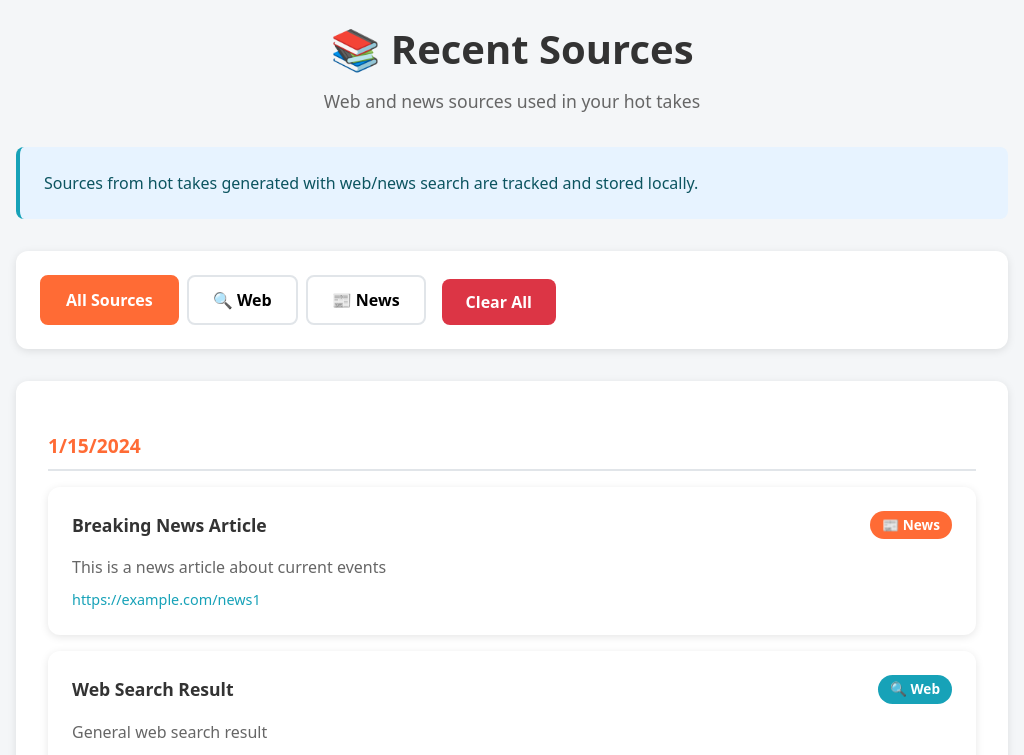
Test: SourcesPage › filters sources by news type
This screenshot has width=1024, height=755.
What coordinates should you click on to do the following:
click the button "📰 News"
I would click on:
 (366, 300)
Its box is [306, 275, 426, 325].
(page scrolled)
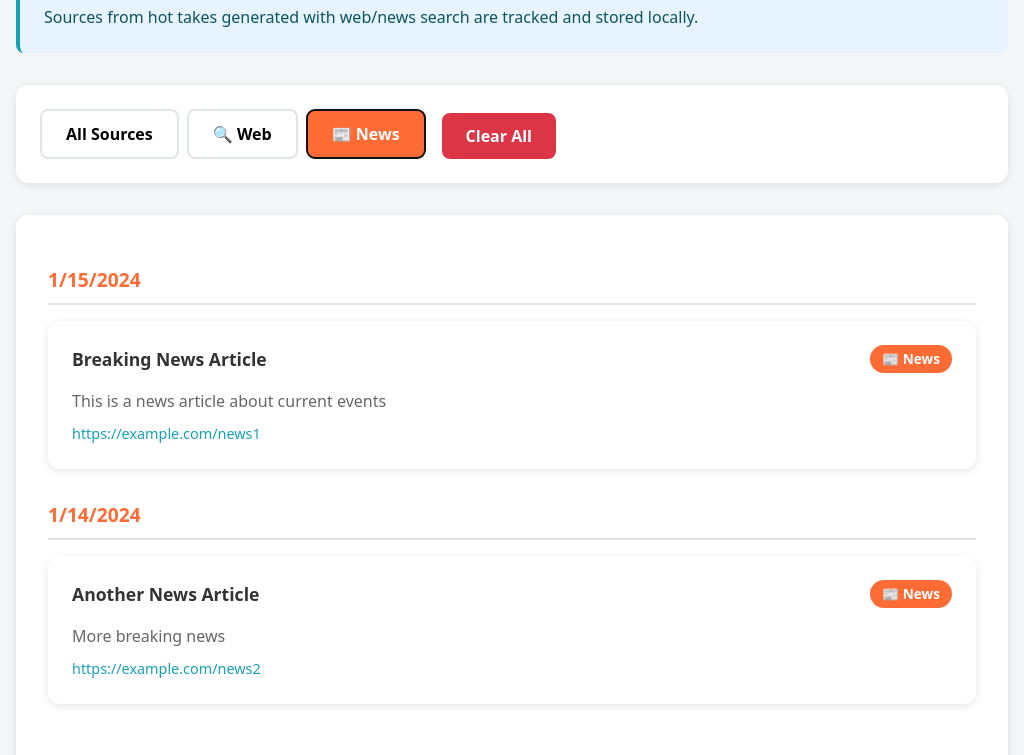
Expected: the link "Breaking News Article" is shown, [72, 346, 267, 372]
Now the link "Web Search Result" is gone
